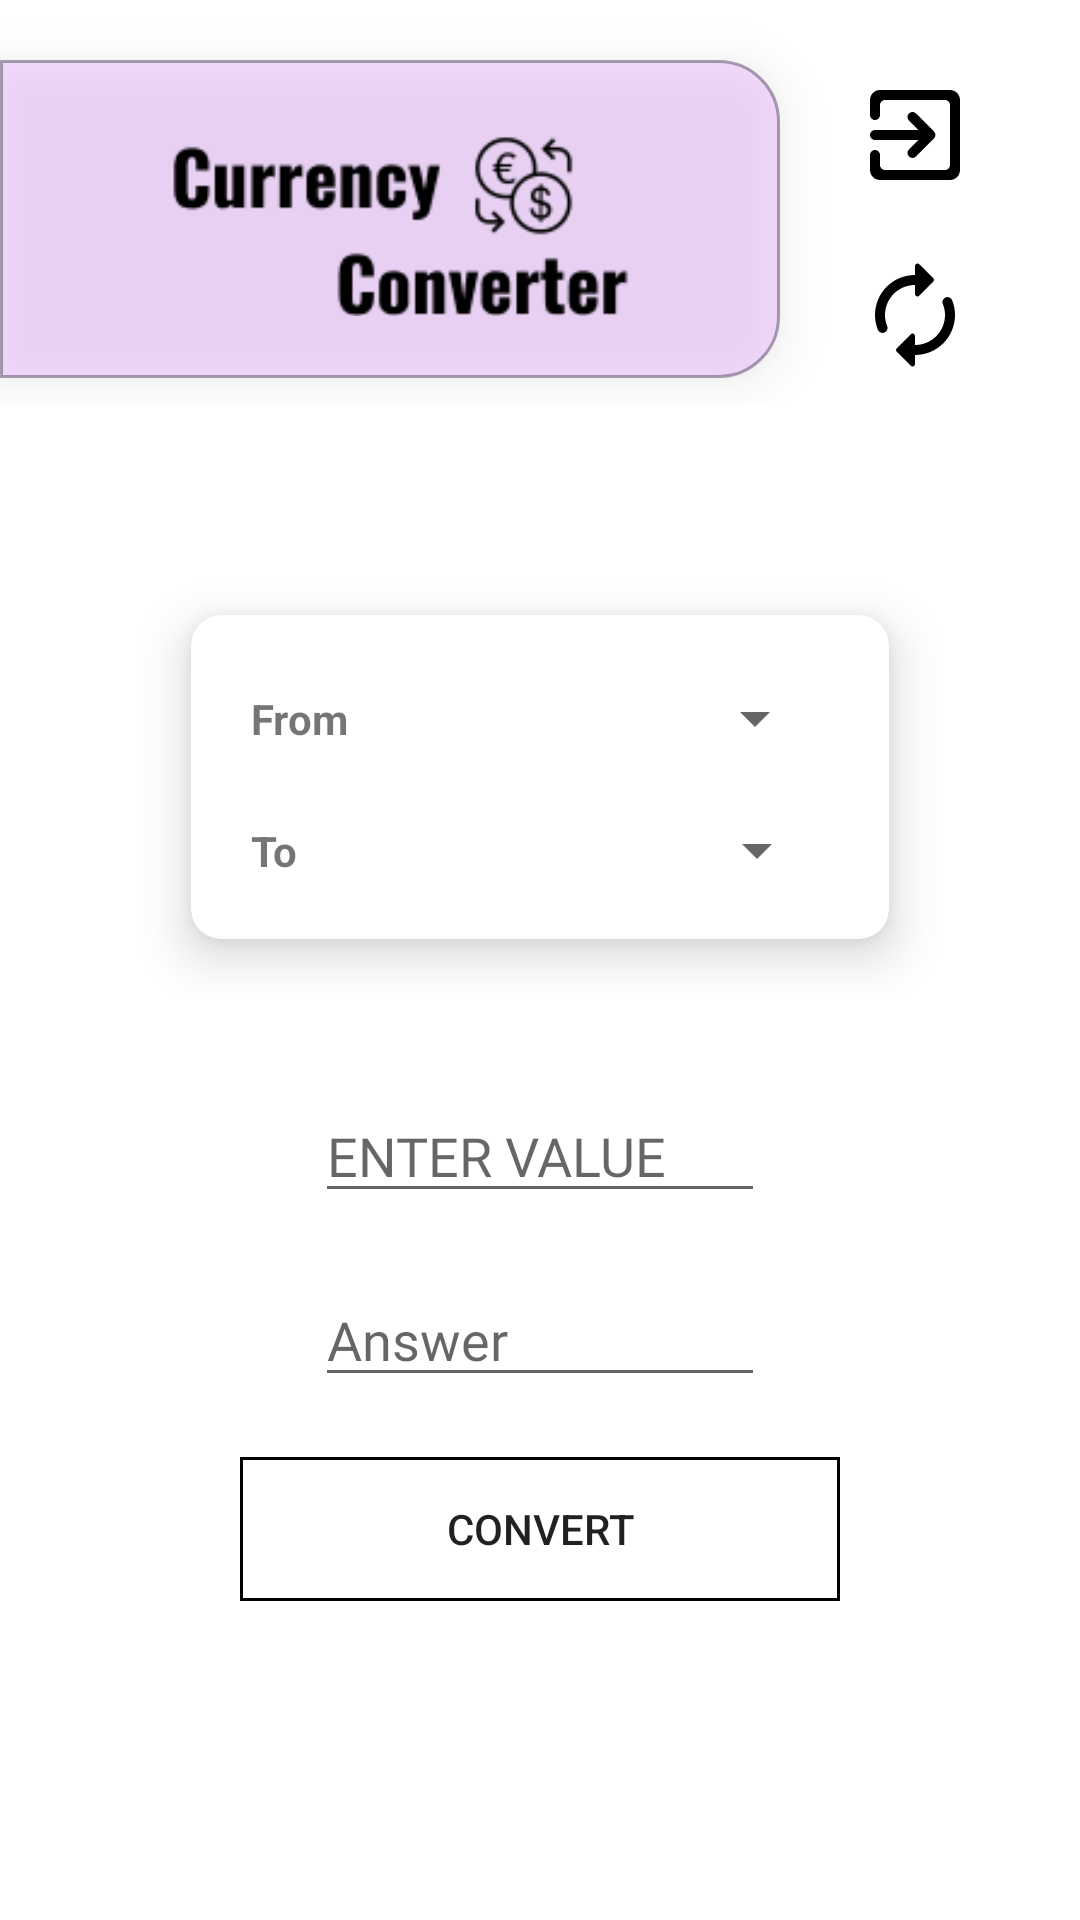

Icons on this 1080w x 1920h Android screen, each with its box as (left=x1, top=y1, right=x2, bottom=y2):
autorenew: (left=875, top=263, right=955, bottom=367)
exit to app: (left=870, top=90, right=960, bottom=180)
